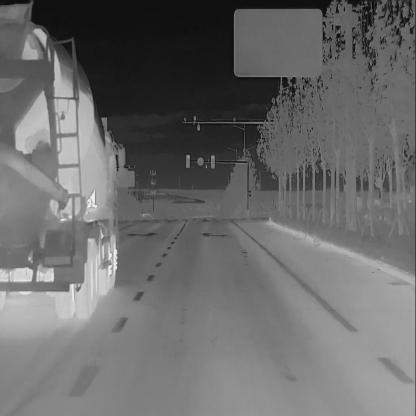truck: (0, 0, 129, 324)
